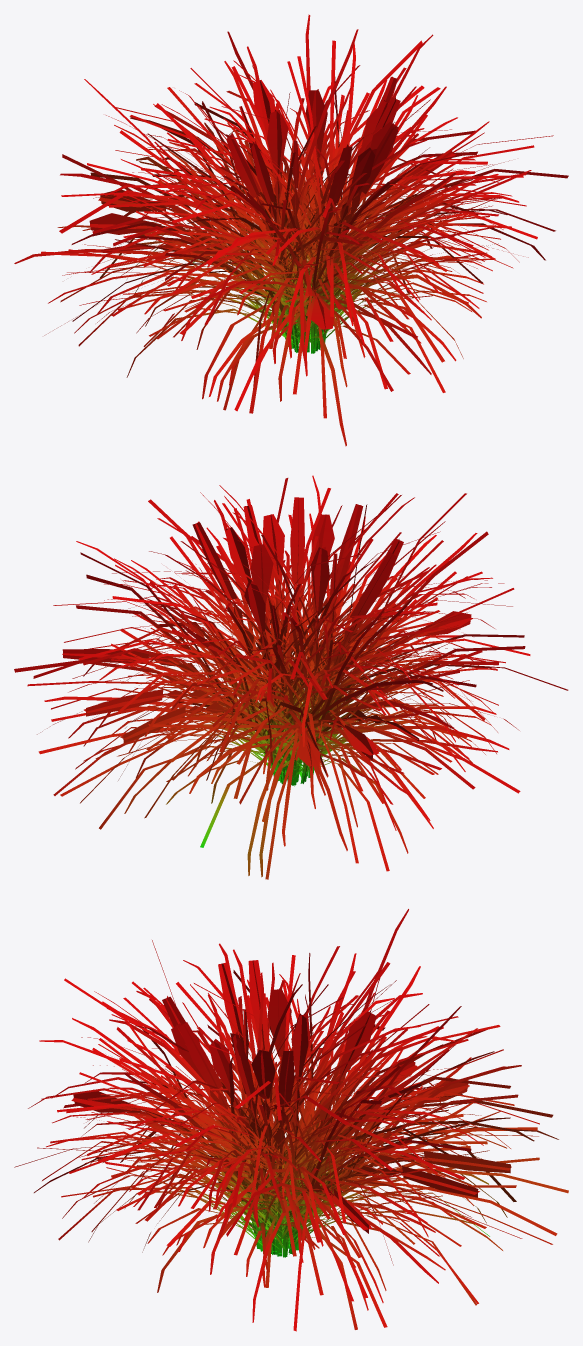
The model's file is Basket Grass_LOD3_Var5_slfpffjr.fbx.
3 renders of one model, top to bottom at view 1: azimuth 30°, elevation 25°; view 2: azimuth 150°, elevation 25°; view 3: azimuth 270°, elevation 25°, orthographic. The views are drawn at different scales.
Visible parts, largest first — view 1: _e8d6_Var5_LOD3; view 2: _e8d6_Var5_LOD3; view 3: _e8d6_Var5_LOD3.
Part boxes in pixels (x1,y1,x2,y2): _e8d6_Var5_LOD3: (14,14,568,446); _e8d6_Var5_LOD3: (14,475,568,879); _e8d6_Var5_LOD3: (14,909,568,1331).
Size of the model in its own units: 127 by 74.98 by 119.
